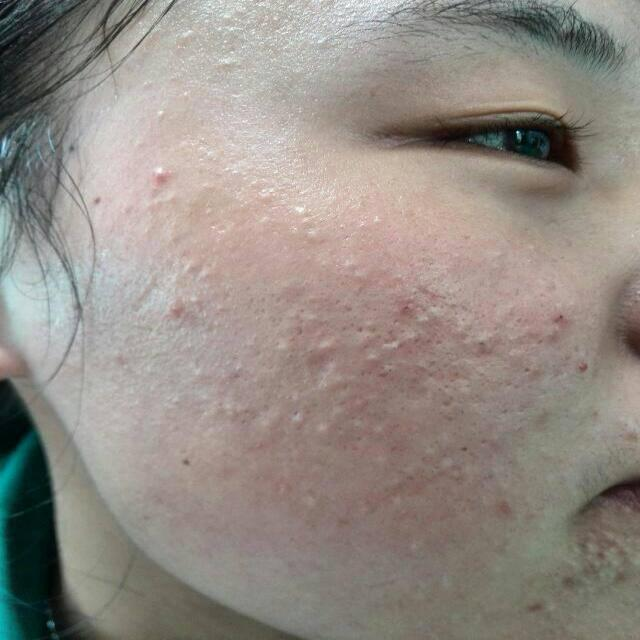pustule: (373, 284, 432, 334), (577, 528, 636, 572), (519, 304, 589, 338), (475, 486, 532, 519), (537, 568, 590, 598), (558, 350, 602, 382), (155, 296, 201, 324), (273, 278, 311, 303), (348, 388, 386, 412), (140, 165, 171, 189)
